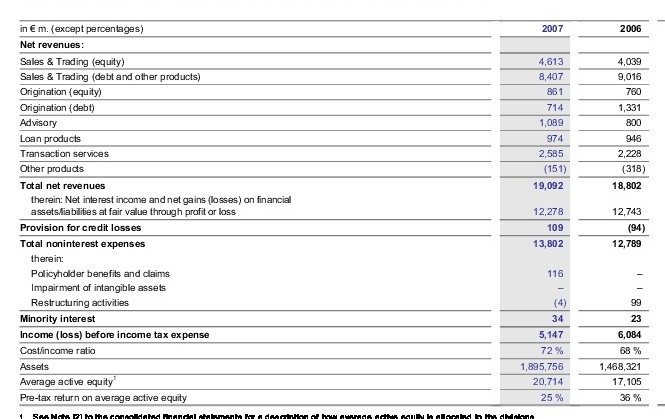table: (0, 0, 665, 419)
